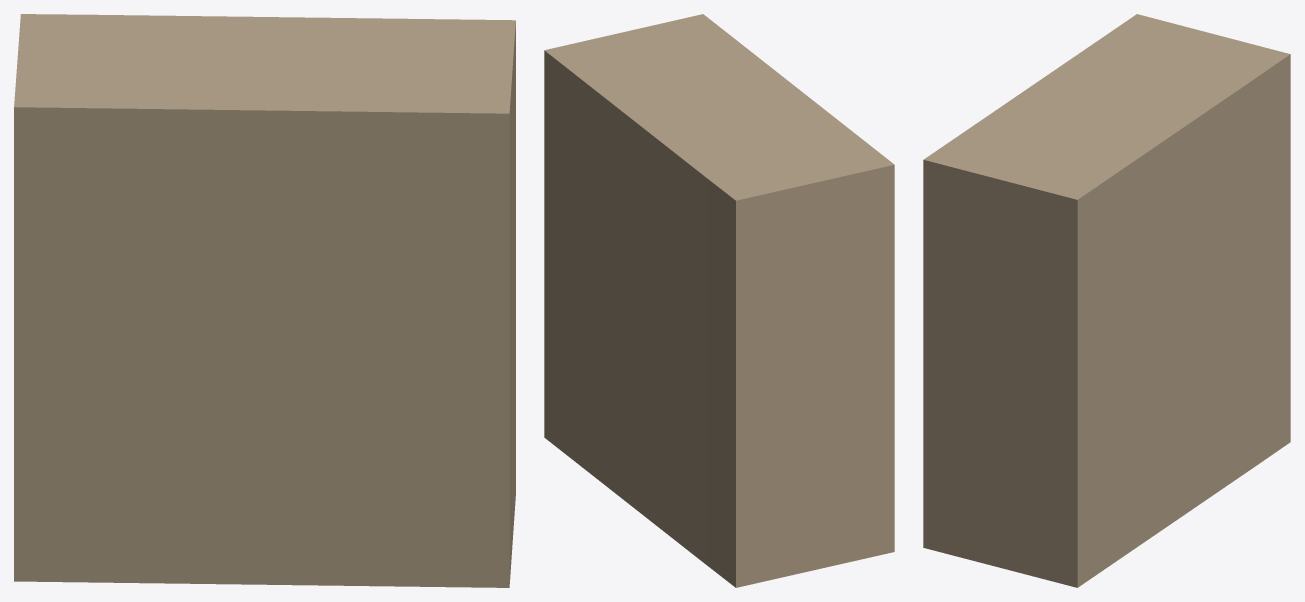
Rendered from bld_101791675.dae.
3 renders of one model, left to right at view 1: azimuth 30°, elevation 25°; view 2: azimuth 150°, elevation 25°; view 3: azimuth 270°, elevation 25°, orthographic. The views are drawn at different scales.
Visible parts, largest first — view 1: bld_101791675; view 2: bld_101791675; view 3: bld_101791675.
Part boxes in pixels (left/top/right/bottom): bld_101791675: left=14, top=14, right=515, bottom=587; bld_101791675: left=544, top=14, right=894, bottom=587; bld_101791675: left=923, top=14, right=1290, bottom=587.
Bounding box in the file's own units: 8.22 × 6.86 × 8.
